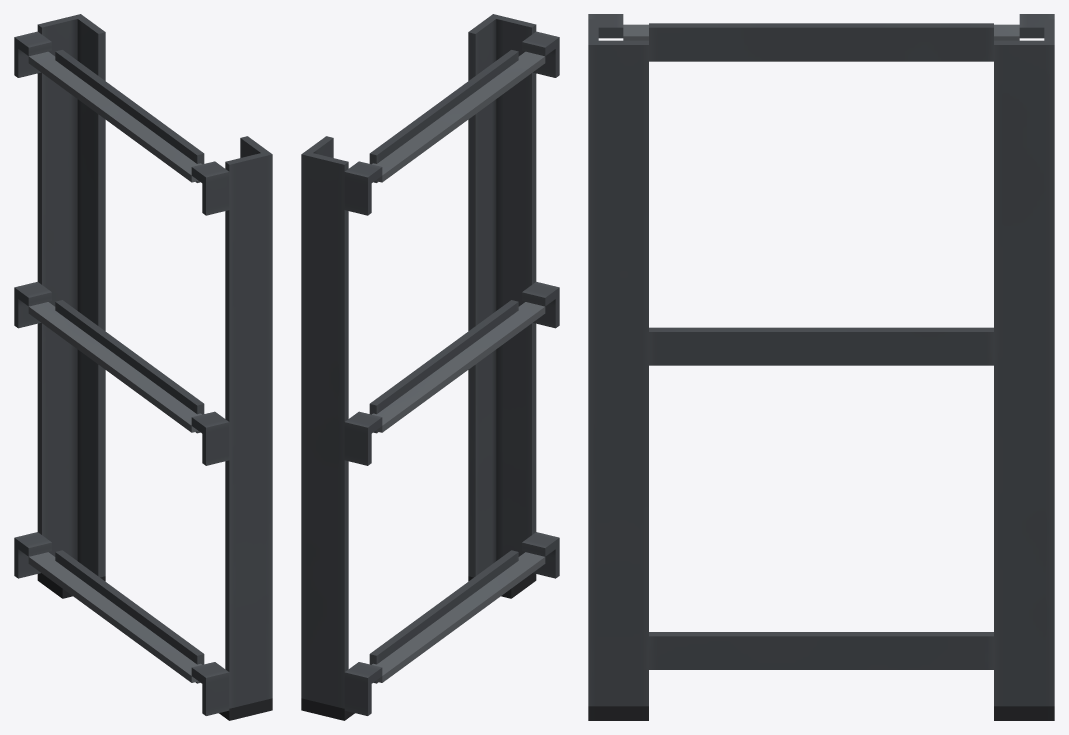
File: end_right_lower.obj
The picture shows the model from 3 angles, left to right: view 1: azimuth 30°, elevation 25°; view 2: azimuth 150°, elevation 25°; view 3: azimuth 270°, elevation 25°; orthographic projection. The views are drawn at different scales.
Parts seen in each view (by area): view 1: end_right_lower__end_right_lower_posts, end_right_lower__end_right_lower_beams, end_right_lower__end_right_lower_deck, end_right_lower__end_right_lower_foot1; view 2: end_right_lower__end_right_lower_posts, end_right_lower__end_right_lower_beams, end_right_lower__end_right_lower_deck, end_right_lower__end_right_lower_foot-1; view 3: end_right_lower__end_right_lower_posts, end_right_lower__end_right_lower_beams, end_right_lower__end_right_lower_foot-1, end_right_lower__end_right_lower_foot1, end_right_lower__end_right_lower_deck.
Part boxes in pixels (x1,y1,x2,y2): end_right_lower__end_right_lower_posts: (37, 14, 272, 708); end_right_lower__end_right_lower_beams: (14, 31, 229, 715); end_right_lower__end_right_lower_deck: (28, 51, 201, 682); end_right_lower__end_right_lower_foot1: (219, 698, 272, 720); end_right_lower__end_right_lower_posts: (301, 14, 536, 708); end_right_lower__end_right_lower_beams: (344, 31, 559, 715); end_right_lower__end_right_lower_deck: (372, 51, 545, 682); end_right_lower__end_right_lower_foot-1: (301, 698, 354, 720); end_right_lower__end_right_lower_posts: (588, 19, 1054, 706); end_right_lower__end_right_lower_beams: (588, 14, 1054, 669); end_right_lower__end_right_lower_foot-1: (994, 706, 1054, 720); end_right_lower__end_right_lower_foot1: (588, 706, 648, 720); end_right_lower__end_right_lower_deck: (623, 24, 1019, 40).
Bounding box in the file's own units: 0.125 × 1 × 0.625.
